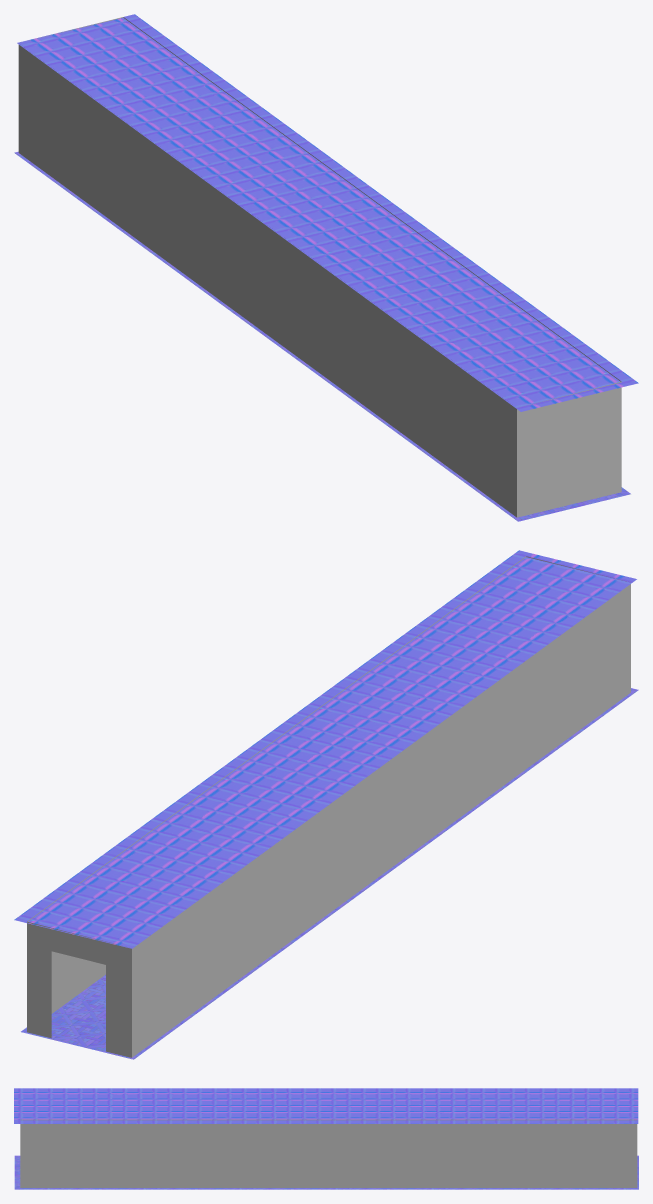
Rendered from room2.obj.
The picture shows the model from 3 angles, top to bottom: view 1: azimuth 30°, elevation 25°; view 2: azimuth 150°, elevation 25°; view 3: azimuth 270°, elevation 25°; orthographic projection. The views are drawn at different scales.
Visible parts, largest first — view 1: Cube.001; view 2: Cube.001; view 3: Cube.001.
Part boxes in pixels (bbox=[...]): Cube.001: bbox=[14, 14, 638, 521]; Cube.001: bbox=[14, 550, 638, 1059]; Cube.001: bbox=[14, 1088, 638, 1189].
Bounding box in the file's own units: 3.44 × 3.06 × 25.04.
